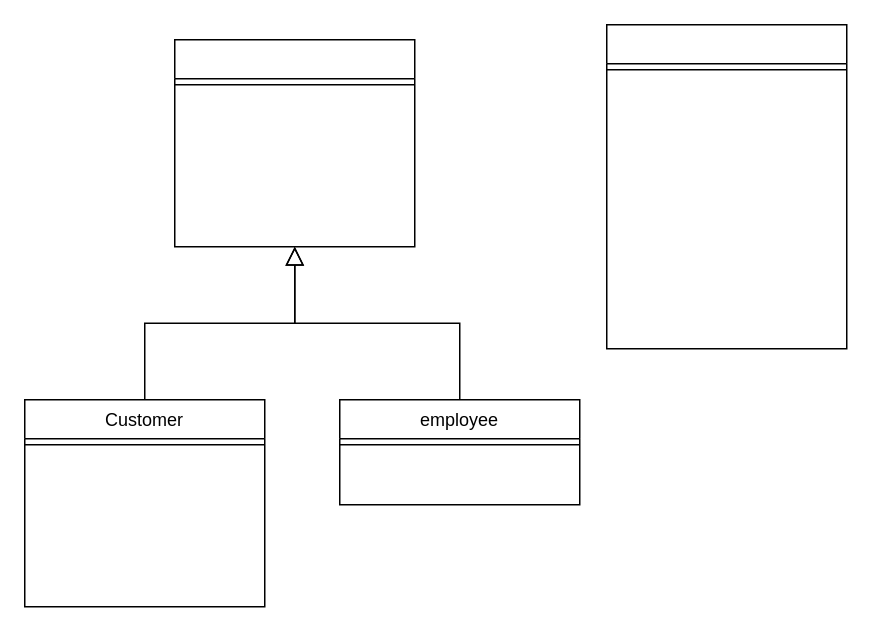
The diagram is 872 pixels wide and 632 high, and some of its shapes have lost their labels. The shapes that lost their labels are listed below. From the top down, each one's box as (x1, y1, x2, y2) in pixels, then its label:
(173, 38, 415, 247): user
(605, 23, 847, 349): products
